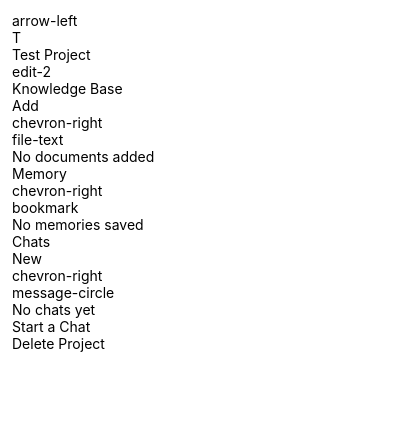
ProjectDetailScreen › delete project › shows confirmation alert when Delete Project is pressed
Click the text "Delete Project" at (58,344), box [12, 335, 105, 352]
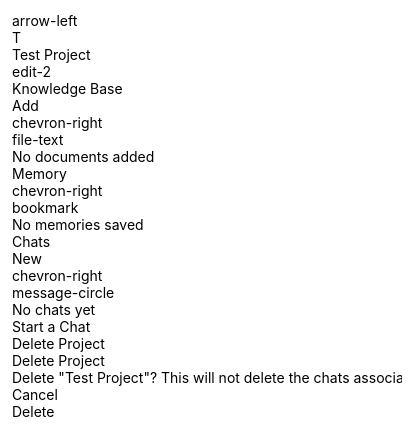
Result: the text with test id "alert-title" reads "Delete Project" at [12, 352, 105, 369]
